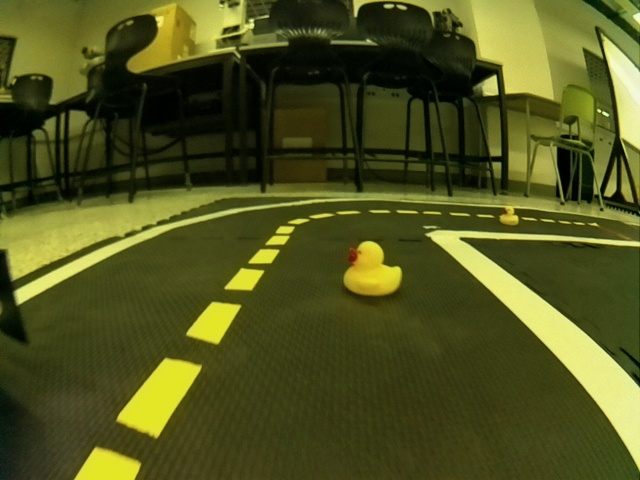pato: (343, 240, 402, 297), (499, 203, 522, 228)
